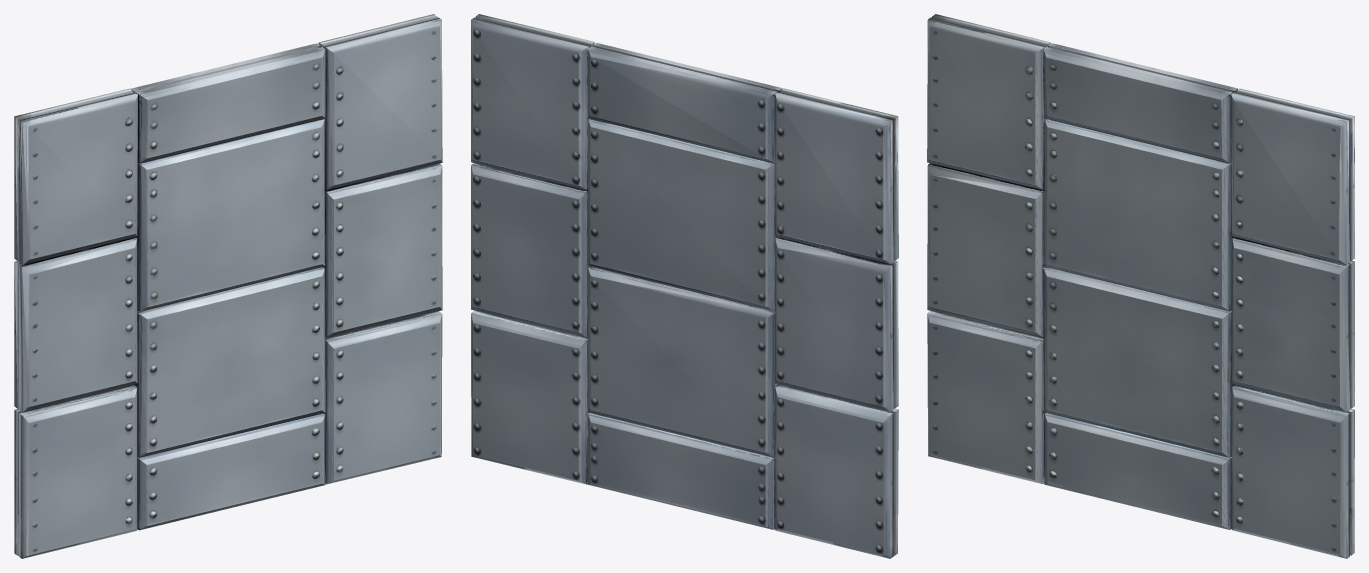
The model's file is Spaceship floor (tex_cyber_floor).glb.
The picture shows the model from 3 angles, left to right: view 1: azimuth 30°, elevation 25°; view 2: azimuth 150°, elevation 25°; view 3: azimuth 330°, elevation 25°; orthographic projection.
Bounding box in the file's own units: 0.9565 × 0.9531 × 0.0547.
1 material, 1 textured.
